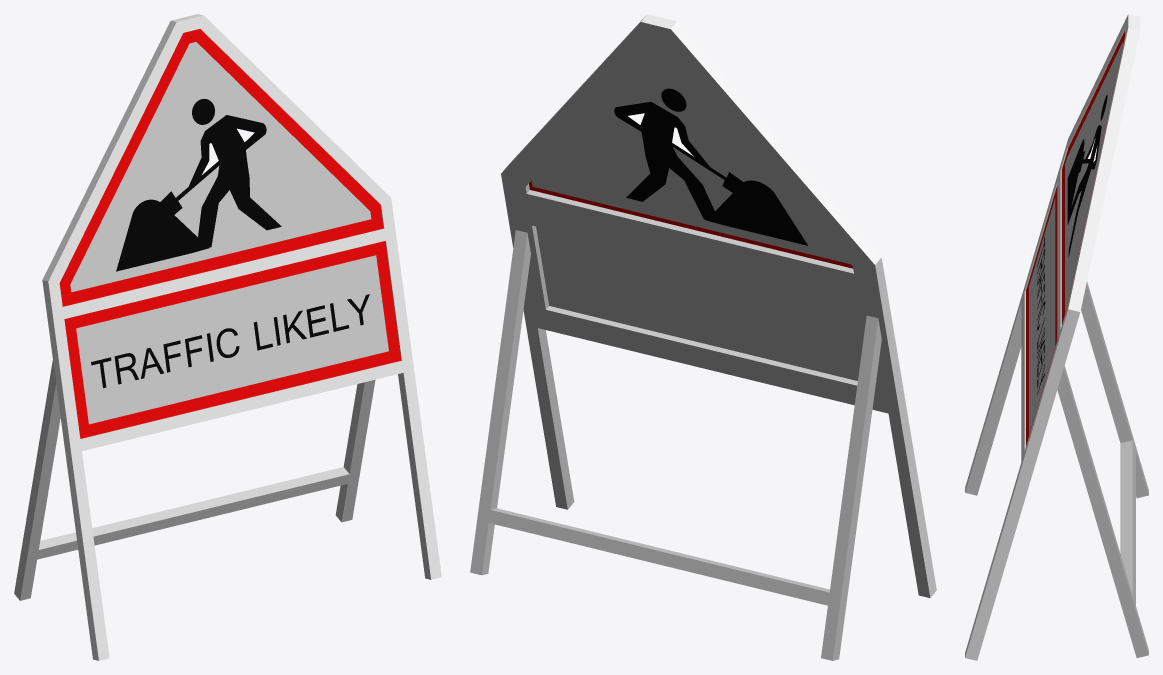
3 renders of one model, left to right at view 1: azimuth 30°, elevation 25°; view 2: azimuth 150°, elevation 25°; view 3: azimuth 270°, elevation 25°, orthographic. The views are drawn at different scales.
Visible parts, largest first — view 1: SketchUp (×6), frame (×3); view 2: frame (×3), SketchUp (×5); view 3: frame (×5), SketchUp (×5).
Boxes of the visible parts, x1,y1,x2,y2 form: SketchUp (×6): (59, 29, 401, 438); frame (×3): (14, 14, 441, 660); frame (×3): (470, 14, 936, 660); SketchUp (×5): (529, 46, 863, 380); frame (×5): (965, 14, 1148, 660); SketchUp (×5): (1026, 31, 1124, 445).
Bounding box in the file's own units: 31.5 × 14.35 × 47.79.
